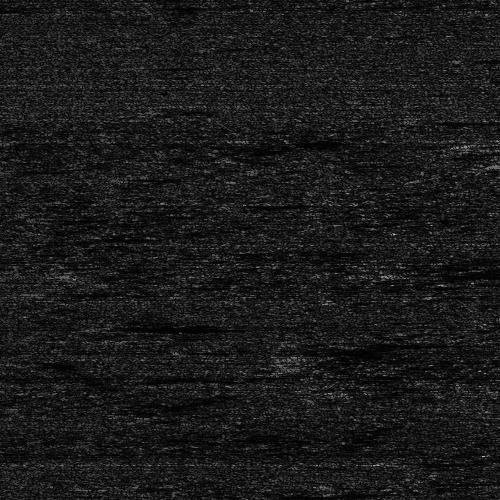rock: (81, 321, 134, 332), (461, 138, 500, 147), (461, 159, 500, 166), (28, 288, 69, 293), (412, 118, 443, 123)
shadow: (108, 321, 219, 332), (49, 288, 128, 293), (428, 118, 500, 123), (0, 5, 58, 10), (423, 270, 500, 271)
